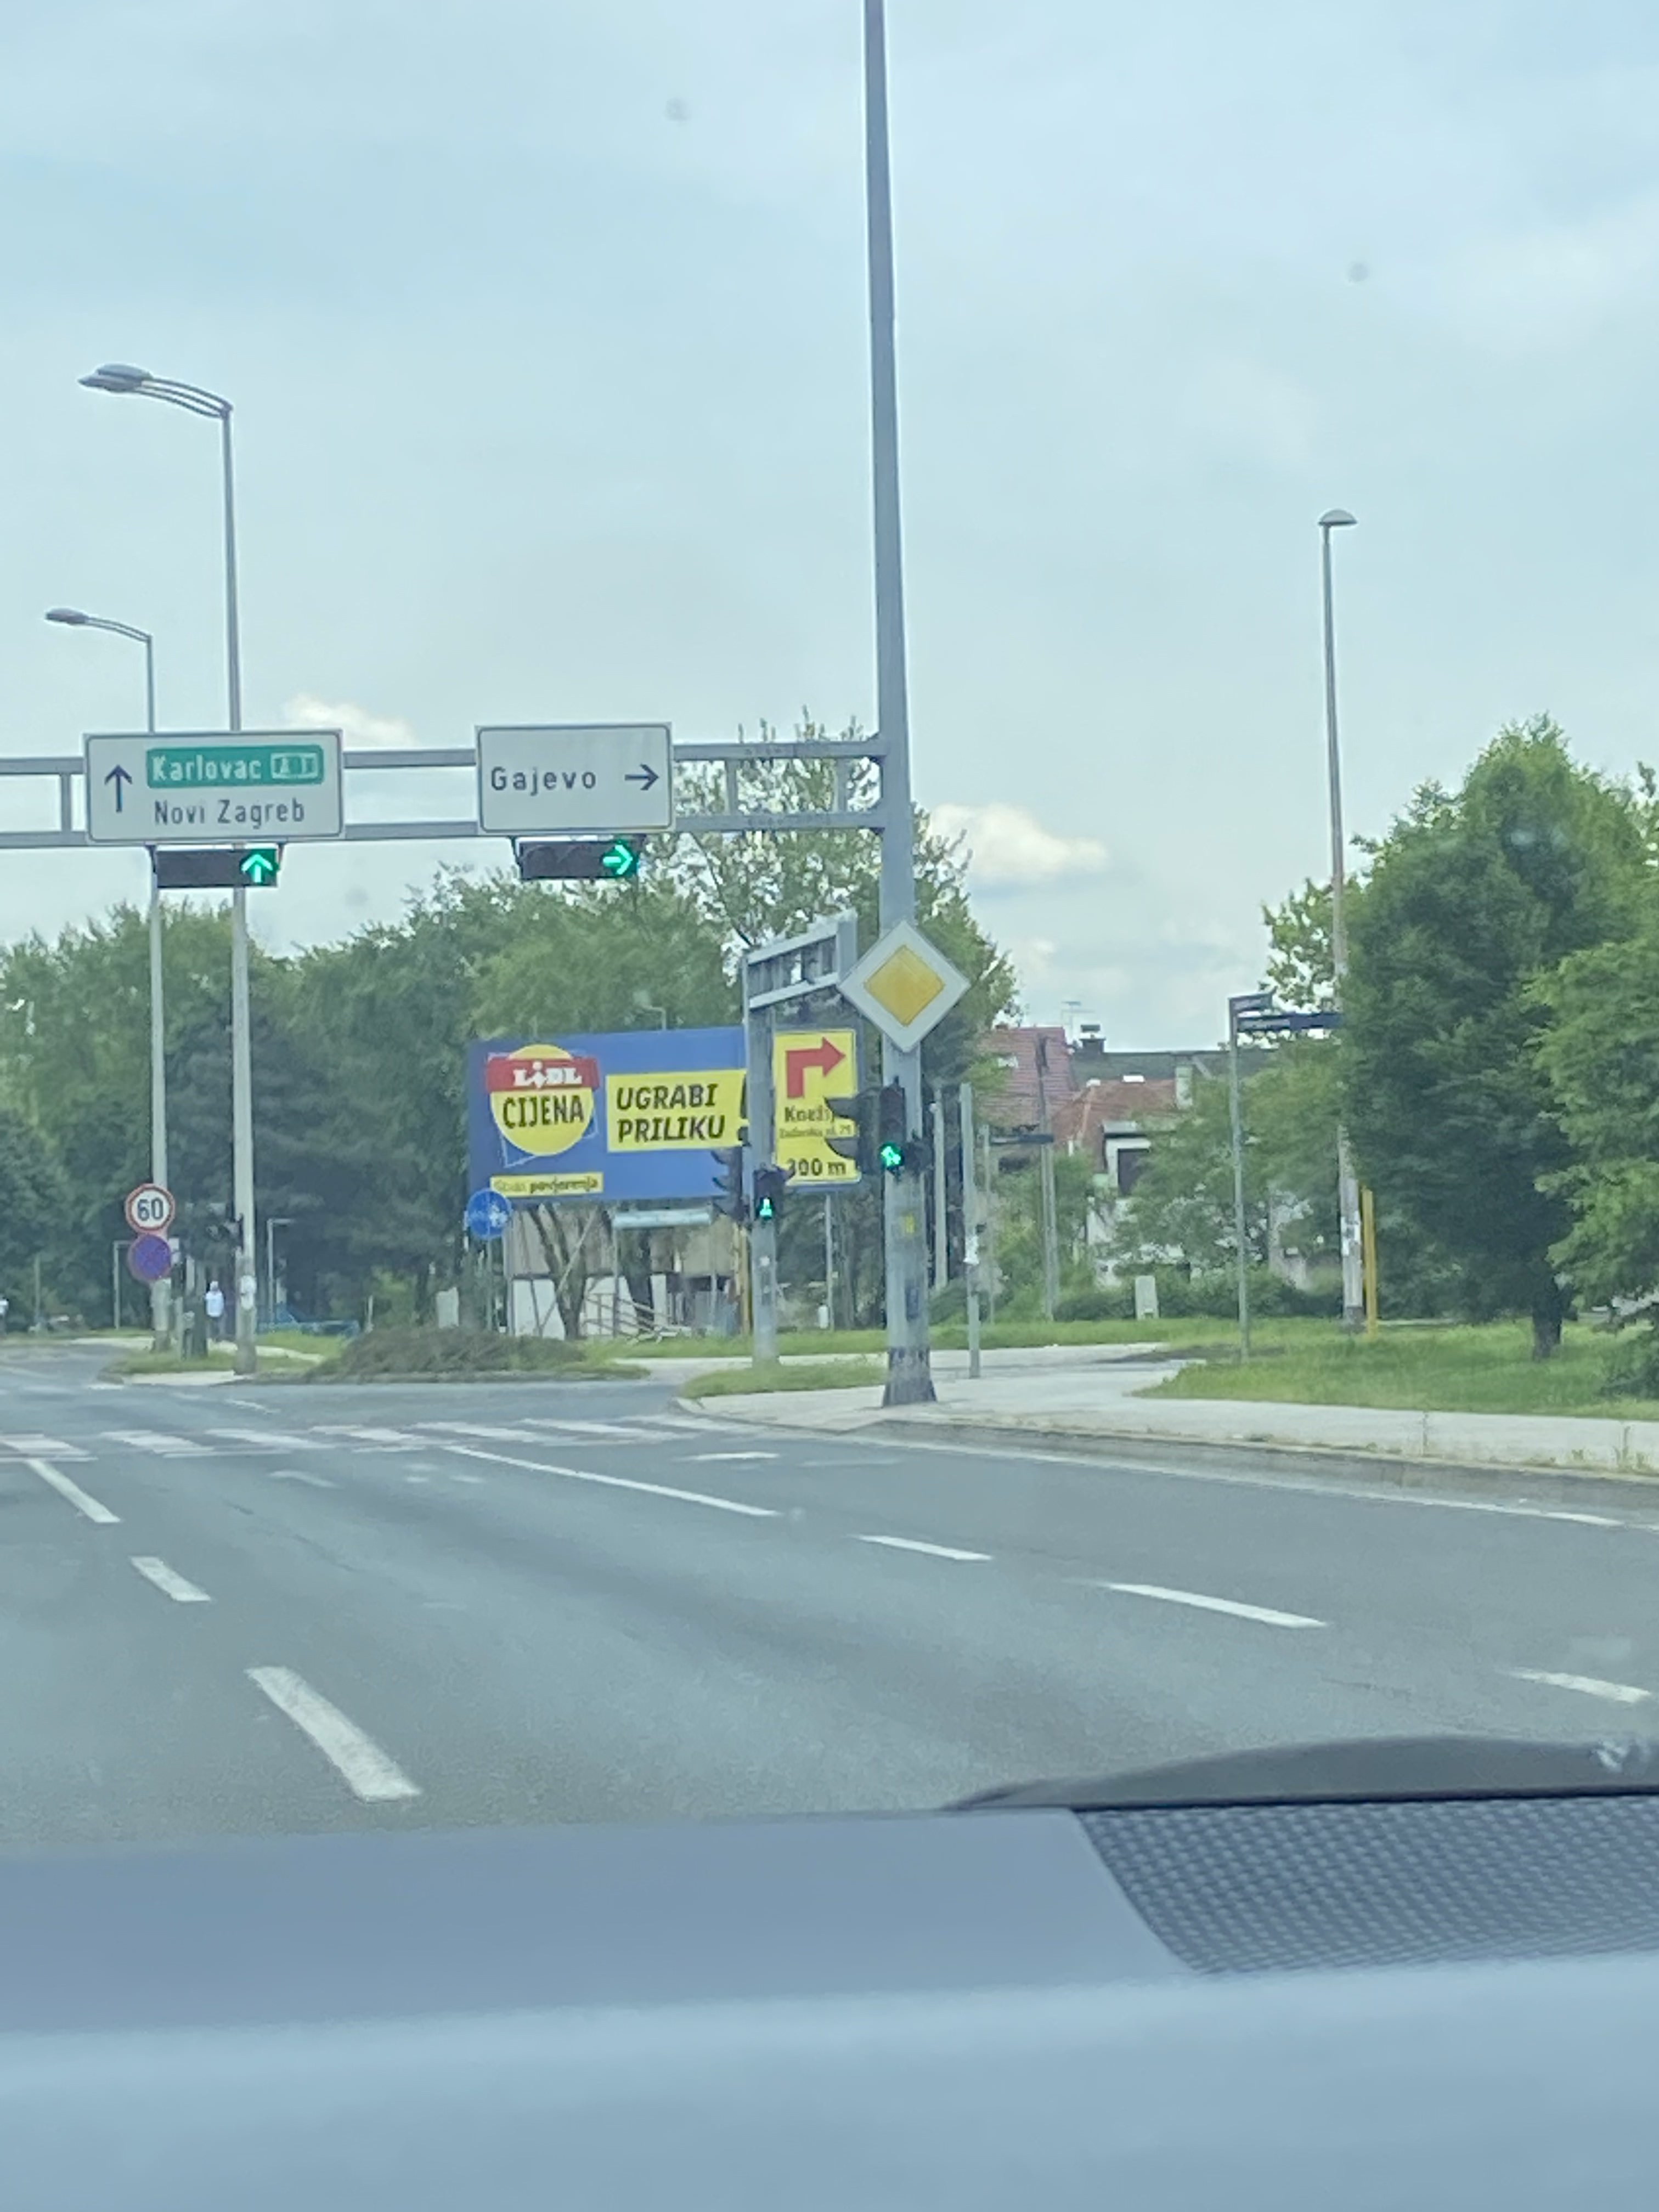Cesta s prednošću prolaska: (835, 918, 972, 1055)
Ograničenje brzine 60: (125, 1183, 174, 1233)
